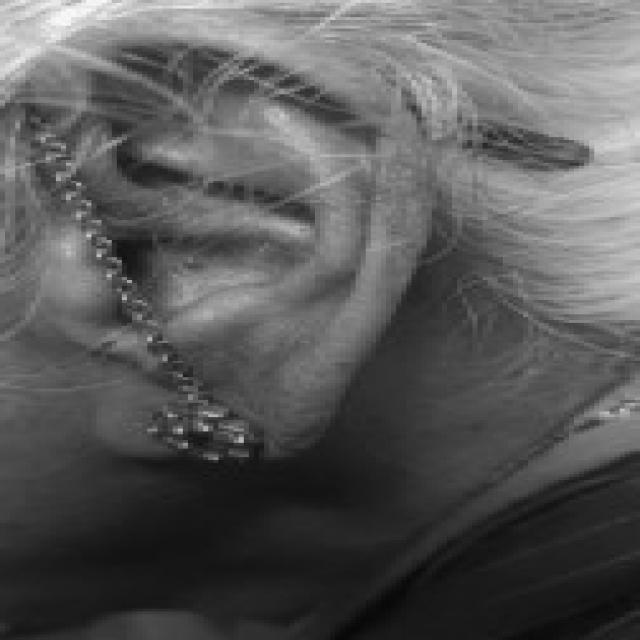ear: (36, 11, 427, 451), (46, 226, 147, 377)
